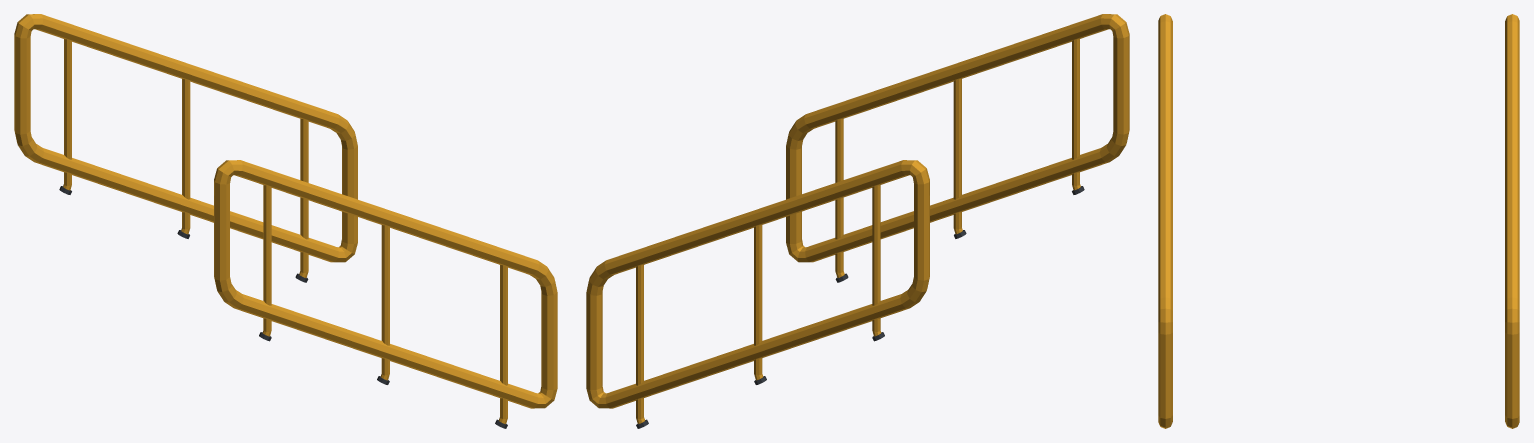
The model's file is Railing_Stairs_1m.fbx.
The picture shows the model from 3 angles, left to right: view 1: azimuth 30°, elevation 25°; view 2: azimuth 150°, elevation 25°; view 3: azimuth 270°, elevation 25°; orthographic projection. The views are drawn at different scales.
Parts seen in each view (by area): view 1: Railing_Stairs_1m; view 2: Railing_Stairs_1m; view 3: Railing_Stairs_1m.
Part boxes in pixels (x1,y1,x2,y2): Railing_Stairs_1m: (14,14,557,428); Railing_Stairs_1m: (586,14,1129,428); Railing_Stairs_1m: (1158,14,1519,428).
Size of the model in its own units: 188 by 176 by 198.
